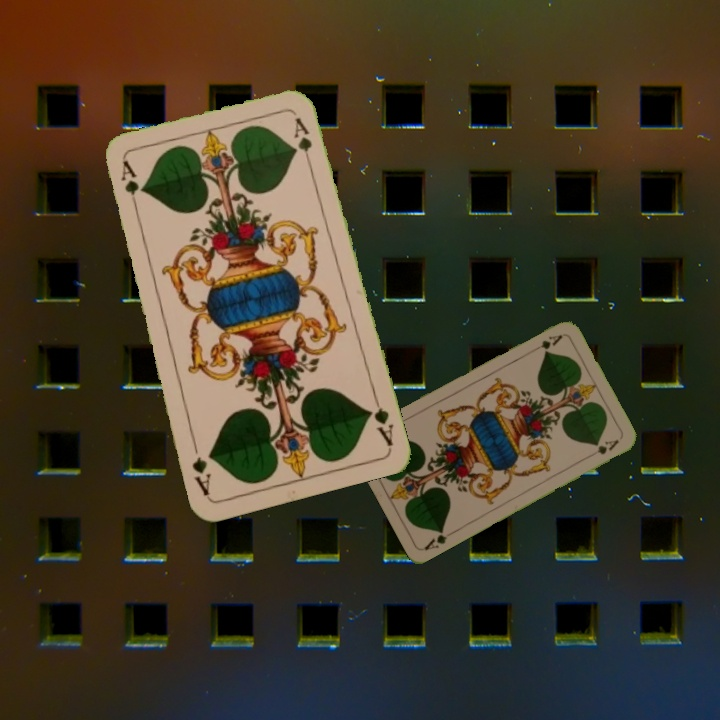GA: (364, 391, 396, 449), (116, 157, 142, 216), (420, 525, 458, 553), (527, 330, 565, 353)
